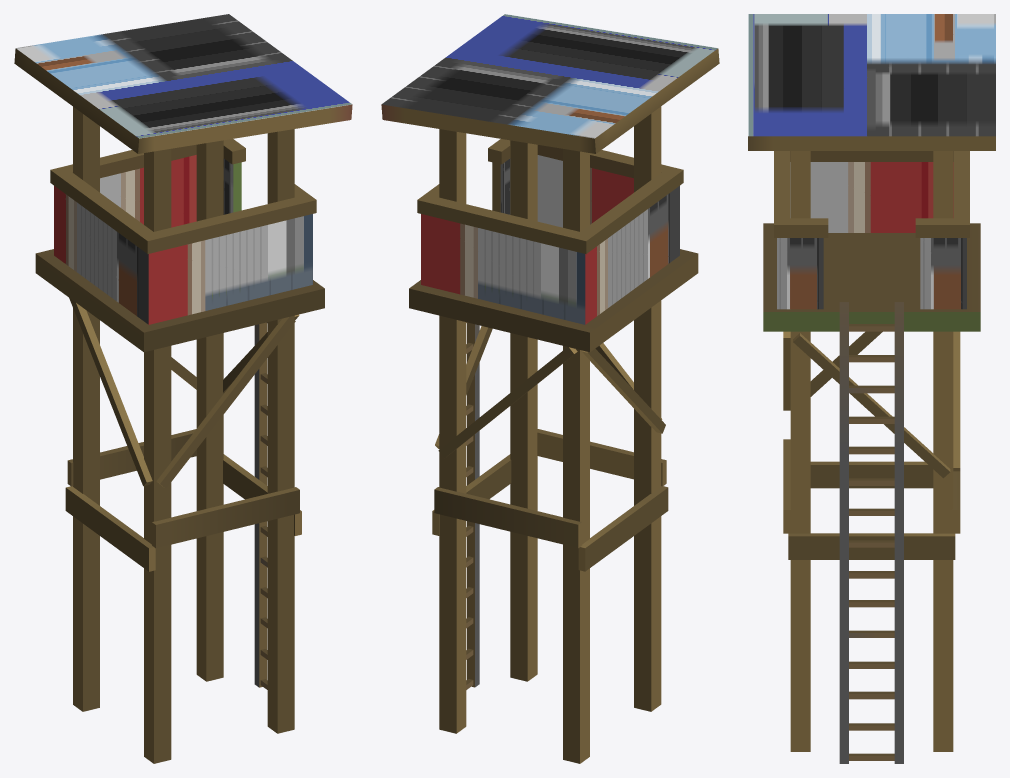
The model's file is tower.gltf.
The picture shows the model from 3 angles, left to right: view 1: azimuth 30°, elevation 25°; view 2: azimuth 150°, elevation 25°; view 3: azimuth 270°, elevation 25°; orthographic projection.
Parts seen in each view (by area): view 1: tower; view 2: tower; view 3: tower.
Boxes of the visible parts, <box> form: tower: <box>14,14,352,763</box>; tower: <box>381,14,719,763</box>; tower: <box>748,14,995,763</box>.
Size of the model in its own units: 4.53 by 13.11 by 4.52.
1 material, 1 textured.
